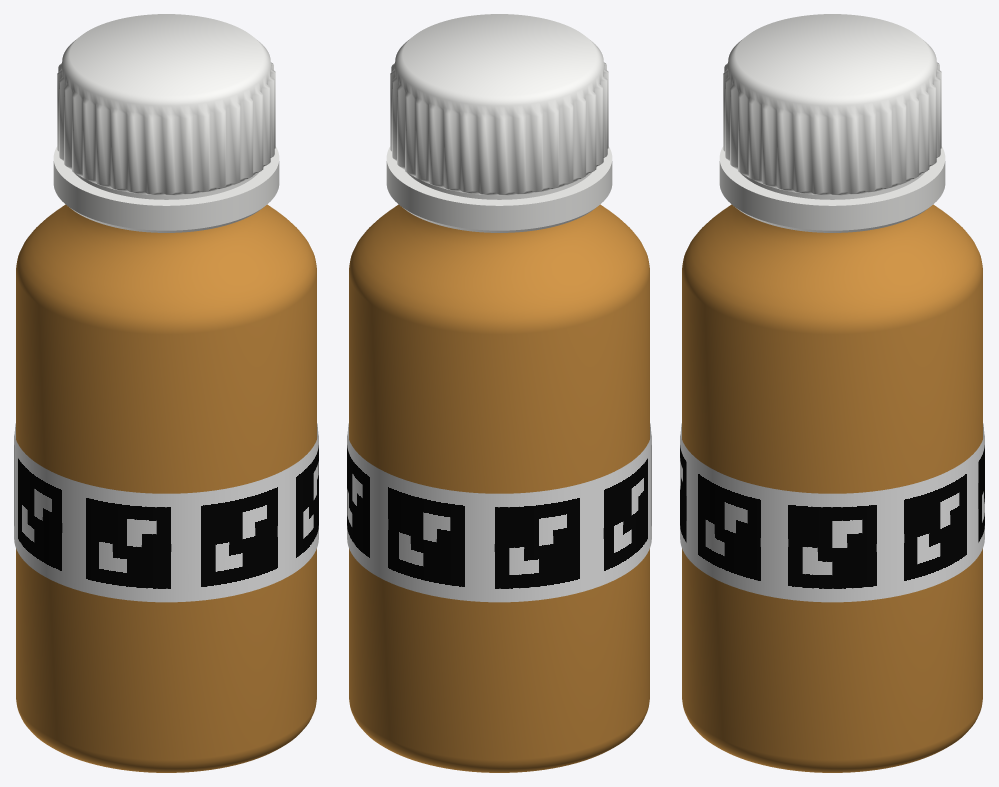
File: SMP-0043_2009139205926.glb
The picture shows the model from 3 angles, left to right: view 1: azimuth 30°, elevation 25°; view 2: azimuth 150°, elevation 25°; view 3: azimuth 270°, elevation 25°; orthographic projection.
Parts seen in each view (by area): view 1: Bottle_030ml, Cap_030ml_PP20, Label_SMP-0043; view 2: Bottle_030ml, Cap_030ml_PP20, Label_SMP-0043; view 3: Bottle_030ml, Cap_030ml_PP20, Label_SMP-0043.
Part boxes in pixels (box(x1,y1,x2,y2)): Bottle_030ml: box(16, 204, 316, 772); Cap_030ml_PP20: box(53, 14, 279, 232); Label_SMP-0043: box(14, 423, 318, 602); Bottle_030ml: box(349, 204, 649, 772); Cap_030ml_PP20: box(386, 14, 612, 232); Label_SMP-0043: box(347, 423, 651, 602); Bottle_030ml: box(682, 204, 982, 772); Cap_030ml_PP20: box(719, 14, 945, 232); Label_SMP-0043: box(680, 423, 984, 602).
Bounding box in the file's own units: 0.0321 × 0.077 × 0.0321.
Materials: 4 (1 with a texture image).
